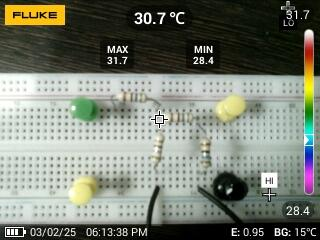resistor: (155, 110, 197, 126), (113, 90, 151, 106), (150, 132, 166, 169), (197, 135, 213, 171)
